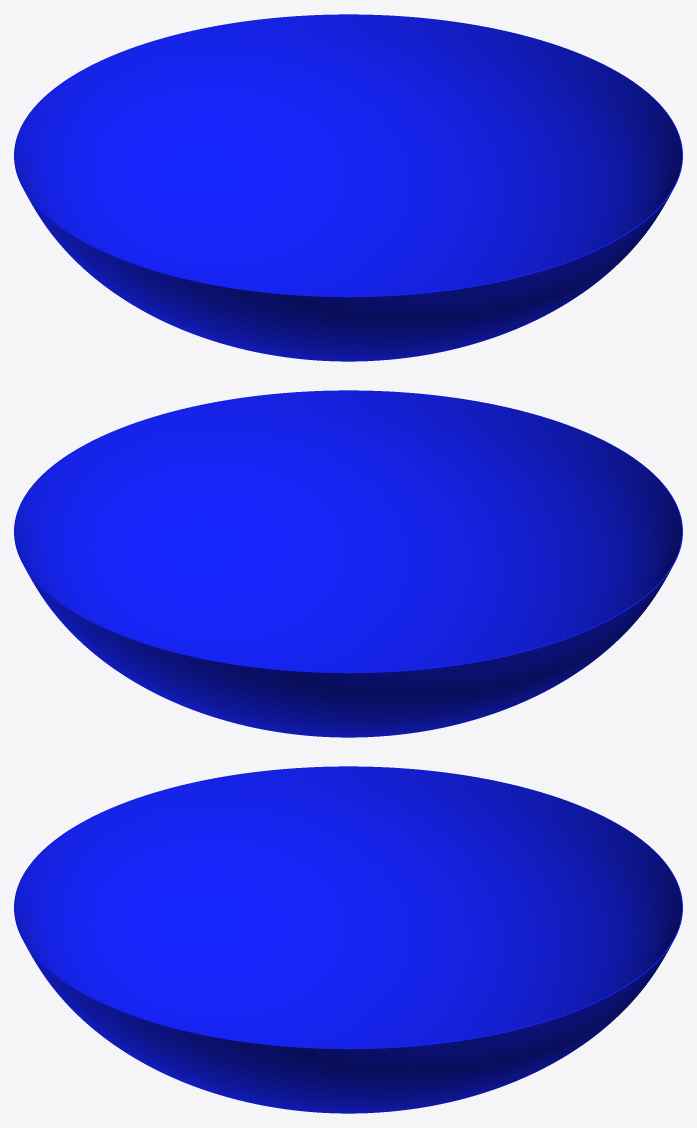
File: BowlModel.fbx
The picture shows the model from 3 angles, top to bottom: view 1: azimuth 30°, elevation 25°; view 2: azimuth 150°, elevation 25°; view 3: azimuth 270°, elevation 25°; orthographic projection.
Visible parts, largest first — view 1: Sphere; view 2: Sphere; view 3: Sphere.
Boxes of the visible parts, bbox=[...] form: Sphere: bbox=[14, 14, 682, 361]; Sphere: bbox=[14, 390, 682, 737]; Sphere: bbox=[14, 766, 682, 1113].
Bounding box in the file's own units: 33.95 × 9.01 × 33.95.
